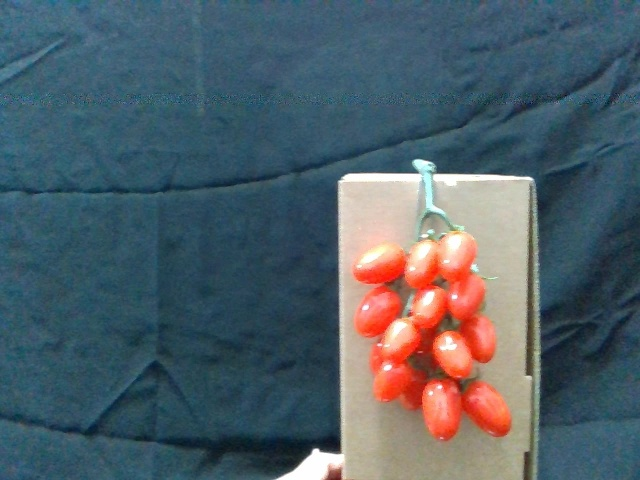tomato: (457, 378, 515, 441), (354, 285, 404, 340), (423, 378, 462, 443), (431, 328, 476, 383), (381, 319, 425, 368), (356, 241, 406, 284), (404, 238, 444, 290), (440, 230, 480, 282), (411, 285, 452, 334), (461, 310, 498, 364), (447, 274, 486, 323), (375, 359, 414, 405)
